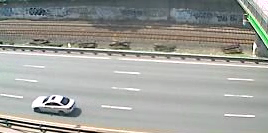car: (27, 93, 78, 117)
